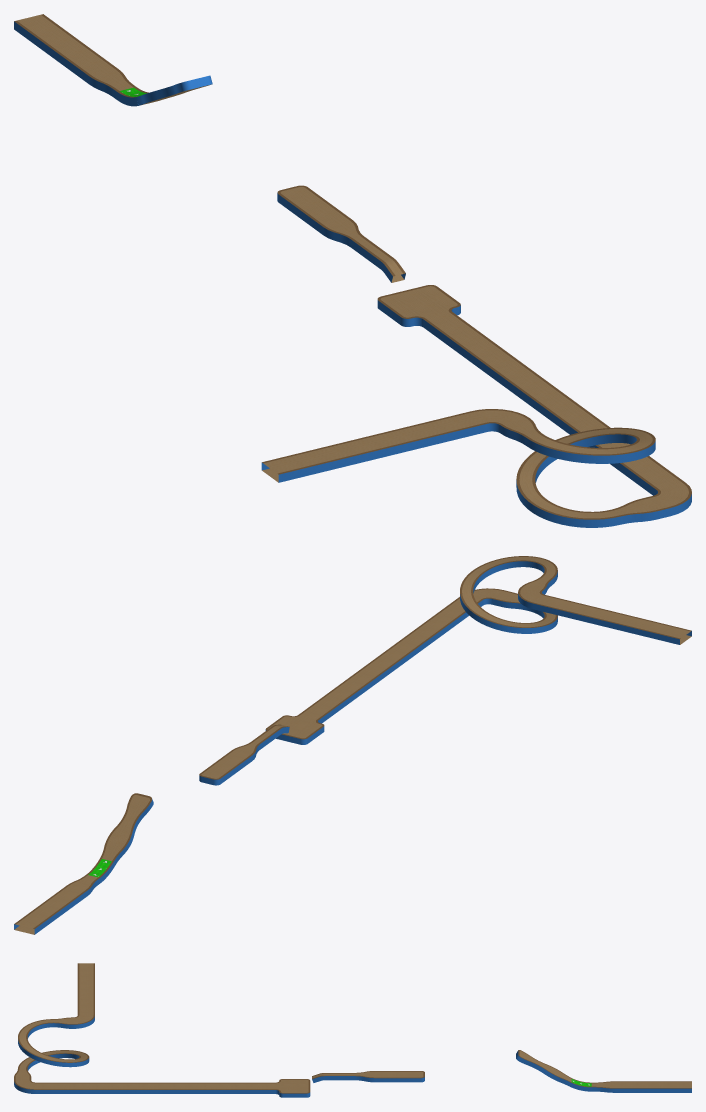
The model's file is ramp_34.FBX.
3 views of the same model, one above another, from view 1: azimuth 30°, elevation 25°; view 2: azimuth 150°, elevation 25°; view 3: azimuth 270°, elevation 25° (orthographic). The views are drawn at different scales.
Parts seen in each view (by area): view 1: ramp_34; view 2: ramp_34; view 3: ramp_34.
Part boxes in pixels (x1,y1,x2,y2): ramp_34: (14, 14, 691, 527); ramp_34: (14, 556, 691, 934); ramp_34: (14, 963, 691, 1097).
Size of the model in its own units: 5850 by 1120 by 17567.
